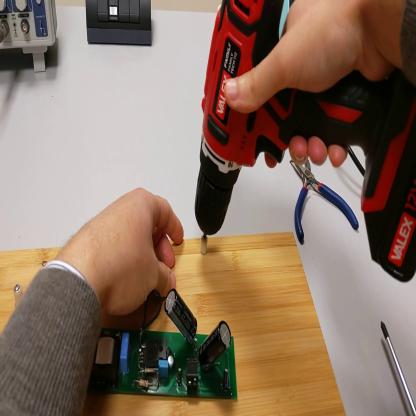electric screwdriver: (196, 3, 416, 283)
hand: (225, 3, 394, 170), (79, 188, 183, 318)
high voltage board: (89, 289, 239, 404)
oscilloscope: (3, 3, 59, 71)
pliers: (289, 158, 360, 248)
screwdriver-: (381, 320, 416, 416)
working area: (1, 231, 346, 414)
